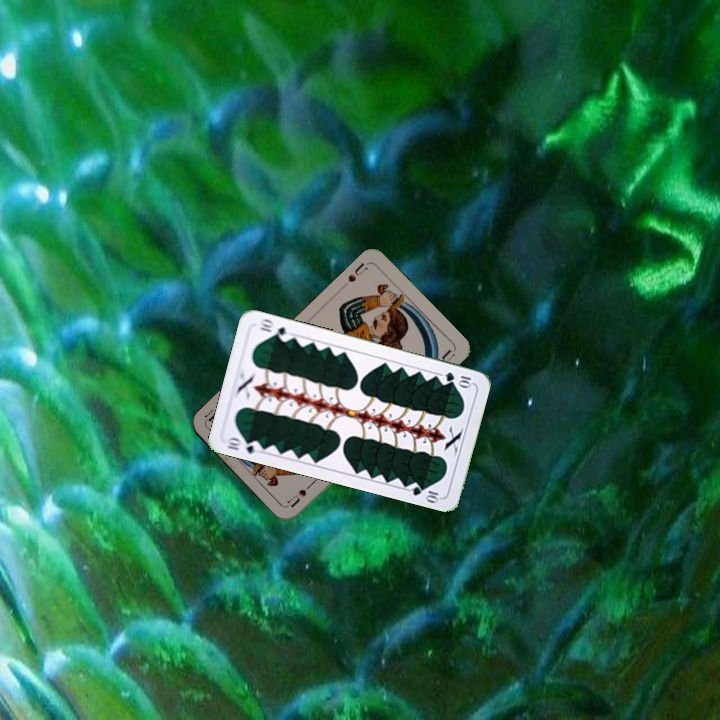G10: (222, 433, 264, 456), (441, 368, 475, 389)
SU: (284, 476, 318, 510), (344, 259, 370, 284)
